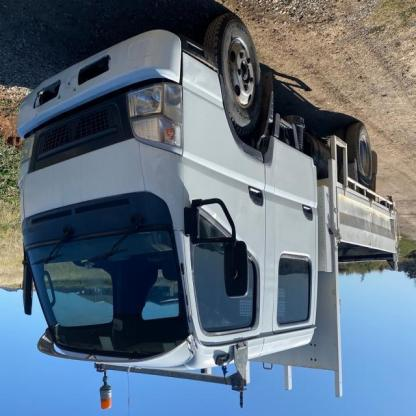truck: (19, 20, 405, 410)
